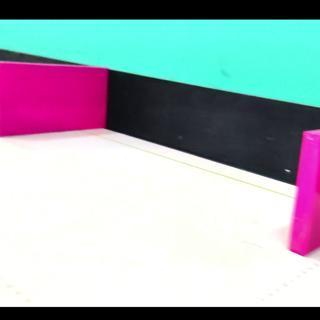xparking: (1, 70, 103, 137), (303, 137, 312, 257)
